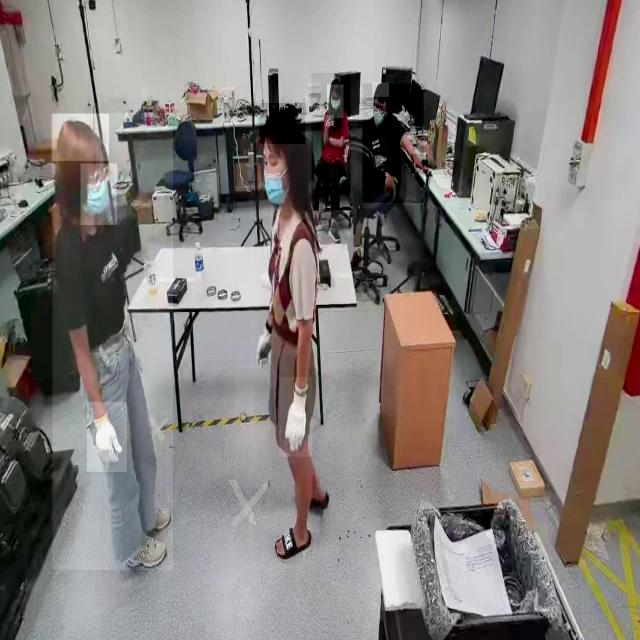face_mask: (81, 163, 117, 225), (259, 147, 289, 216), (372, 100, 387, 136), (327, 85, 343, 118)
hand_glove: (87, 402, 127, 473), (279, 377, 313, 458), (256, 324, 274, 375)
hand_noglove: (411, 154, 429, 174), (324, 115, 334, 127)
head_nohelmet: (52, 114, 110, 162), (260, 103, 306, 145), (372, 82, 390, 98), (329, 76, 345, 89)
person: (53, 113, 174, 571), (250, 106, 334, 570), (362, 84, 424, 204), (311, 73, 351, 211)
shoes: (120, 532, 168, 574), (137, 500, 173, 536), (326, 218, 341, 244)
